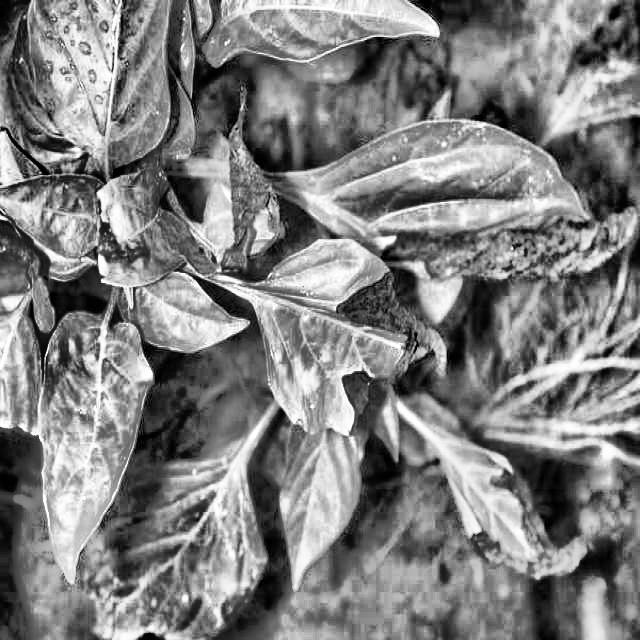plants: (0, 86, 610, 628), (284, 104, 637, 290), (424, 424, 594, 598), (186, 113, 284, 300)
